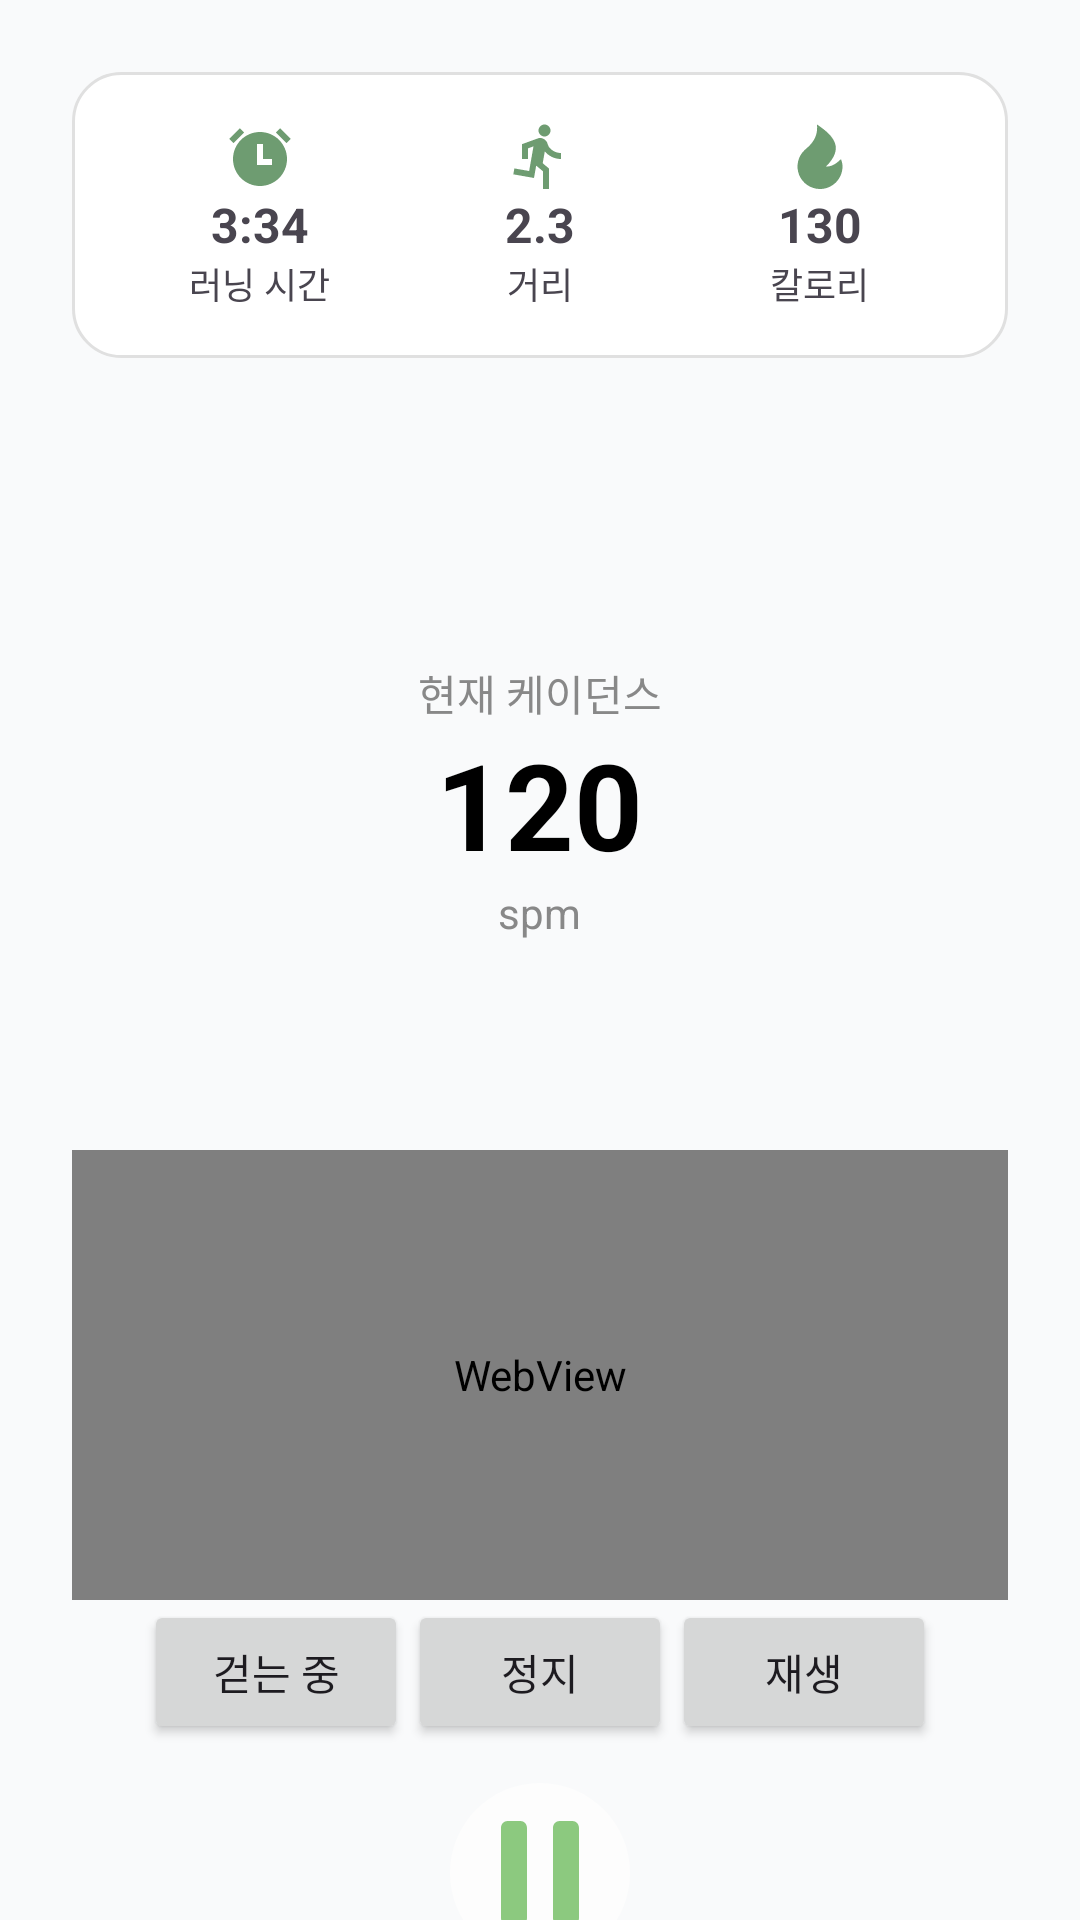

Named icons in this screenshot (1080*1920) and their bounding boxes, (x1=x1, y1=y1, x2=x2, y2=y2):
alarm: (x1=229, y1=128, x2=291, y2=186)
fire: (x1=797, y1=124, x2=843, y2=189)
run: (x1=513, y1=124, x2=561, y2=189)
